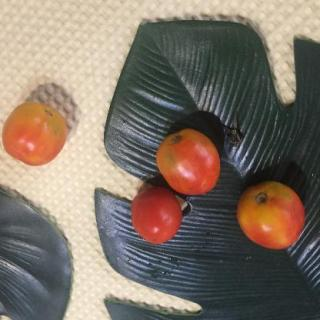Tomat: (233, 178, 311, 256), (152, 122, 226, 202), (3, 98, 71, 170), (130, 181, 187, 249)
